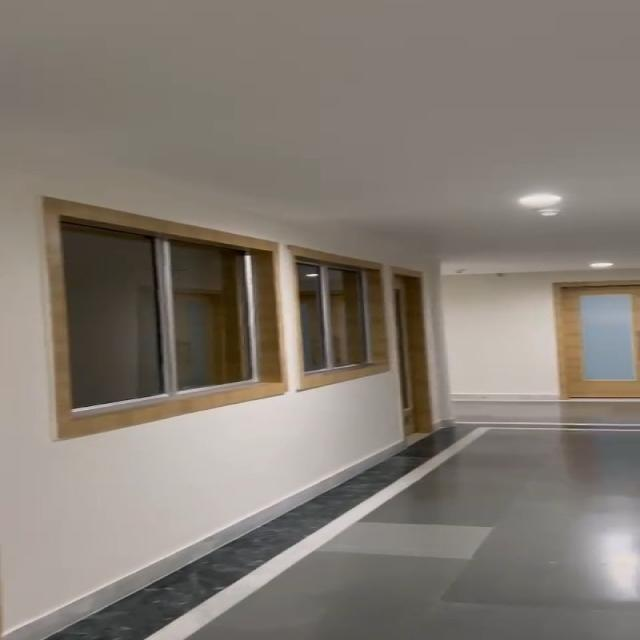door: (550, 272, 640, 398), (385, 262, 445, 446)
floor: (462, 401, 638, 640), (259, 518, 464, 640)
wall: (0, 183, 55, 613), (49, 426, 328, 498), (440, 276, 546, 406)
